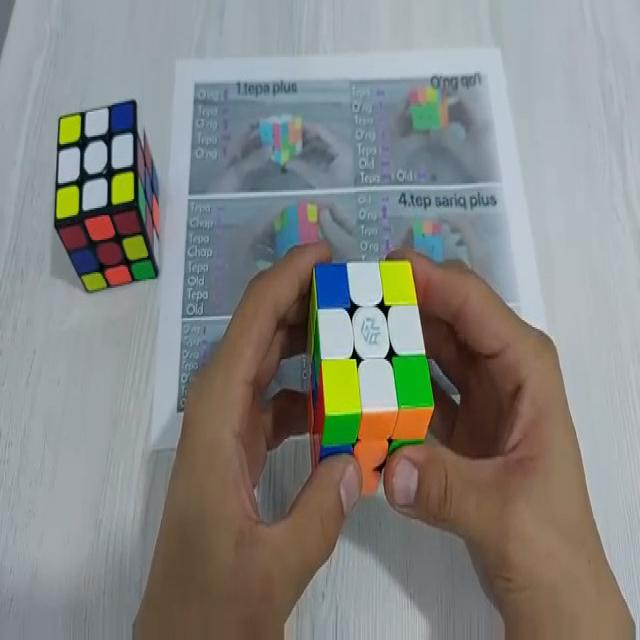Rub: (304, 257, 437, 498), (55, 100, 162, 294)
